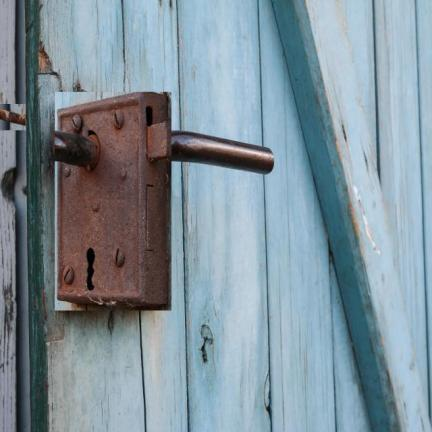karat: (54, 93, 182, 309)
